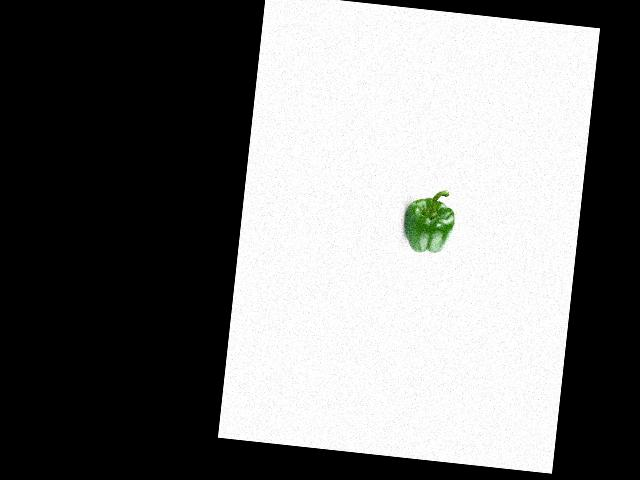bell_pepper: (402, 185, 458, 257)
